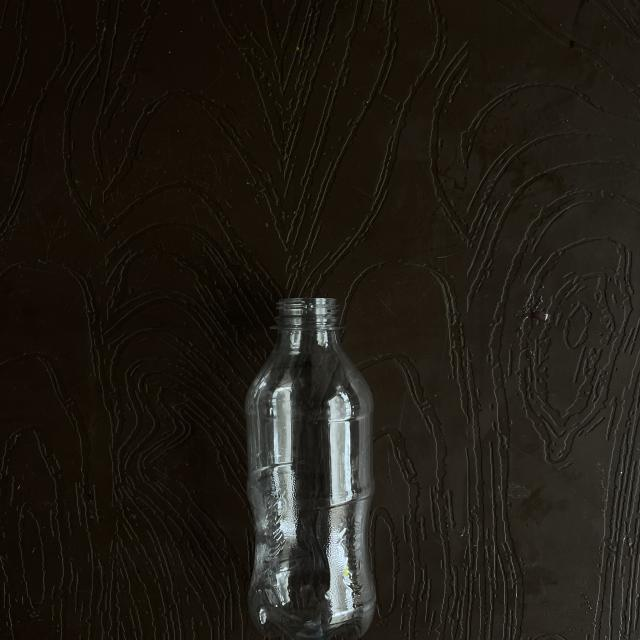PET_ClearBottle: (233, 287, 447, 640)
